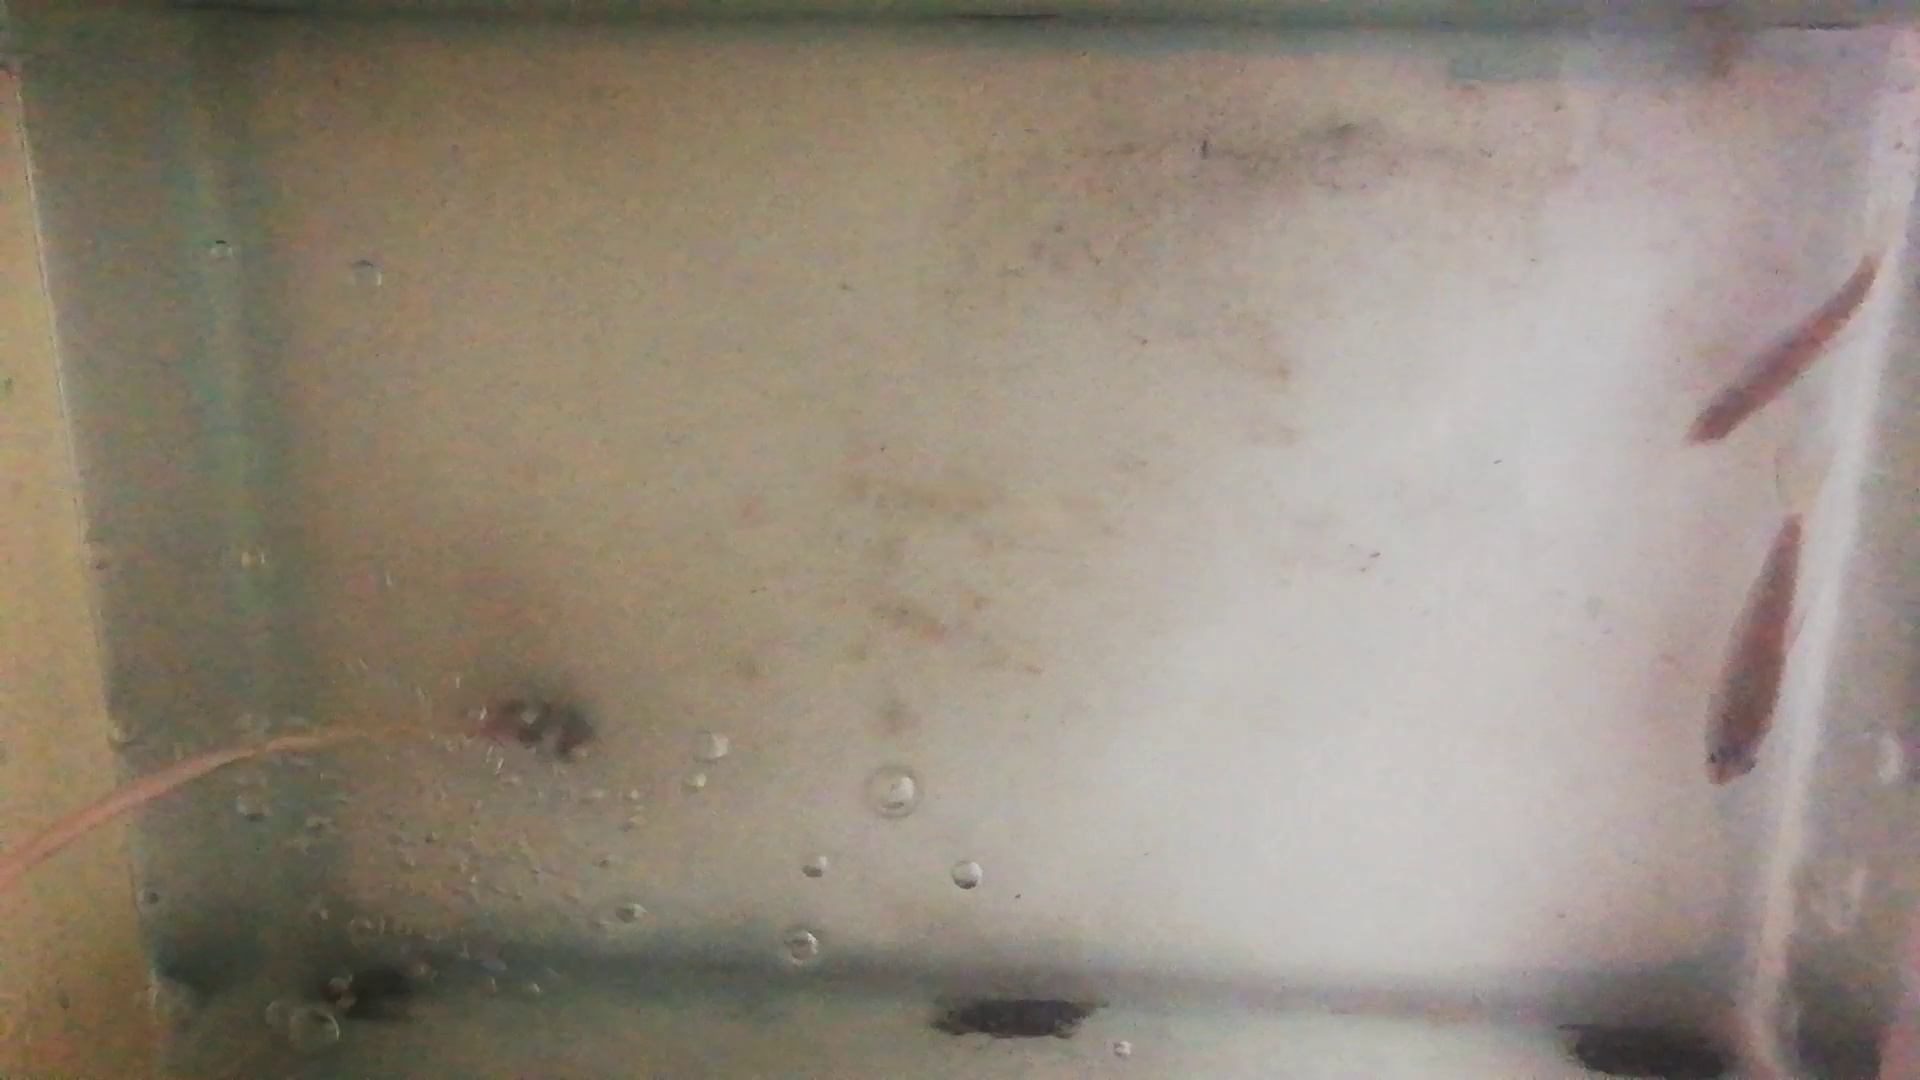fish: (1681, 258, 1875, 450), (1701, 521, 1807, 783)
